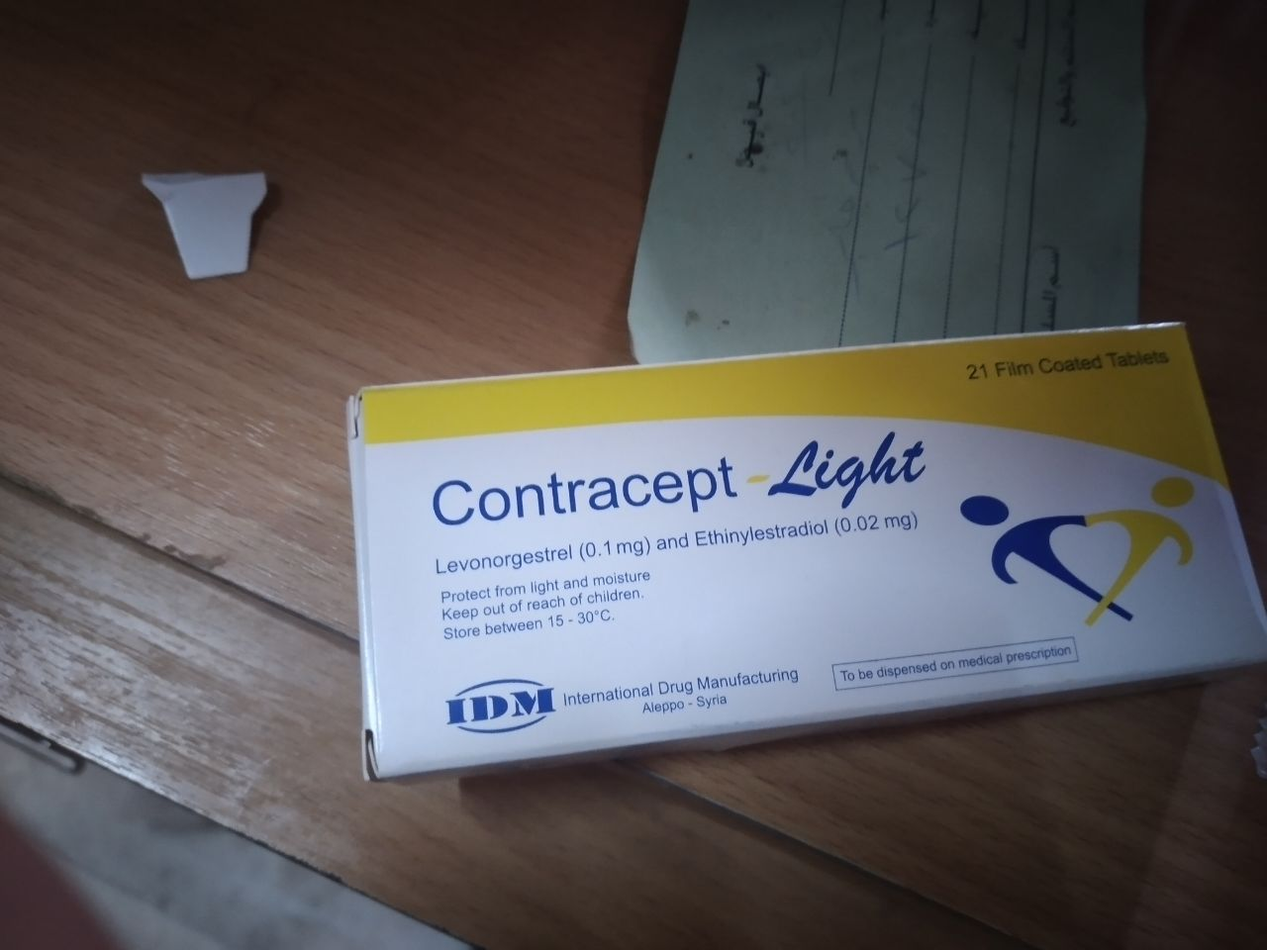Medicine: (327, 297, 1267, 782)
